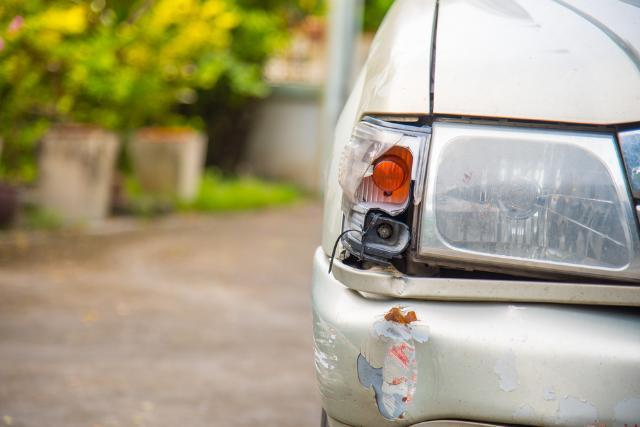Bumper: (290, 273, 445, 427)
Light: (347, 117, 447, 263)
